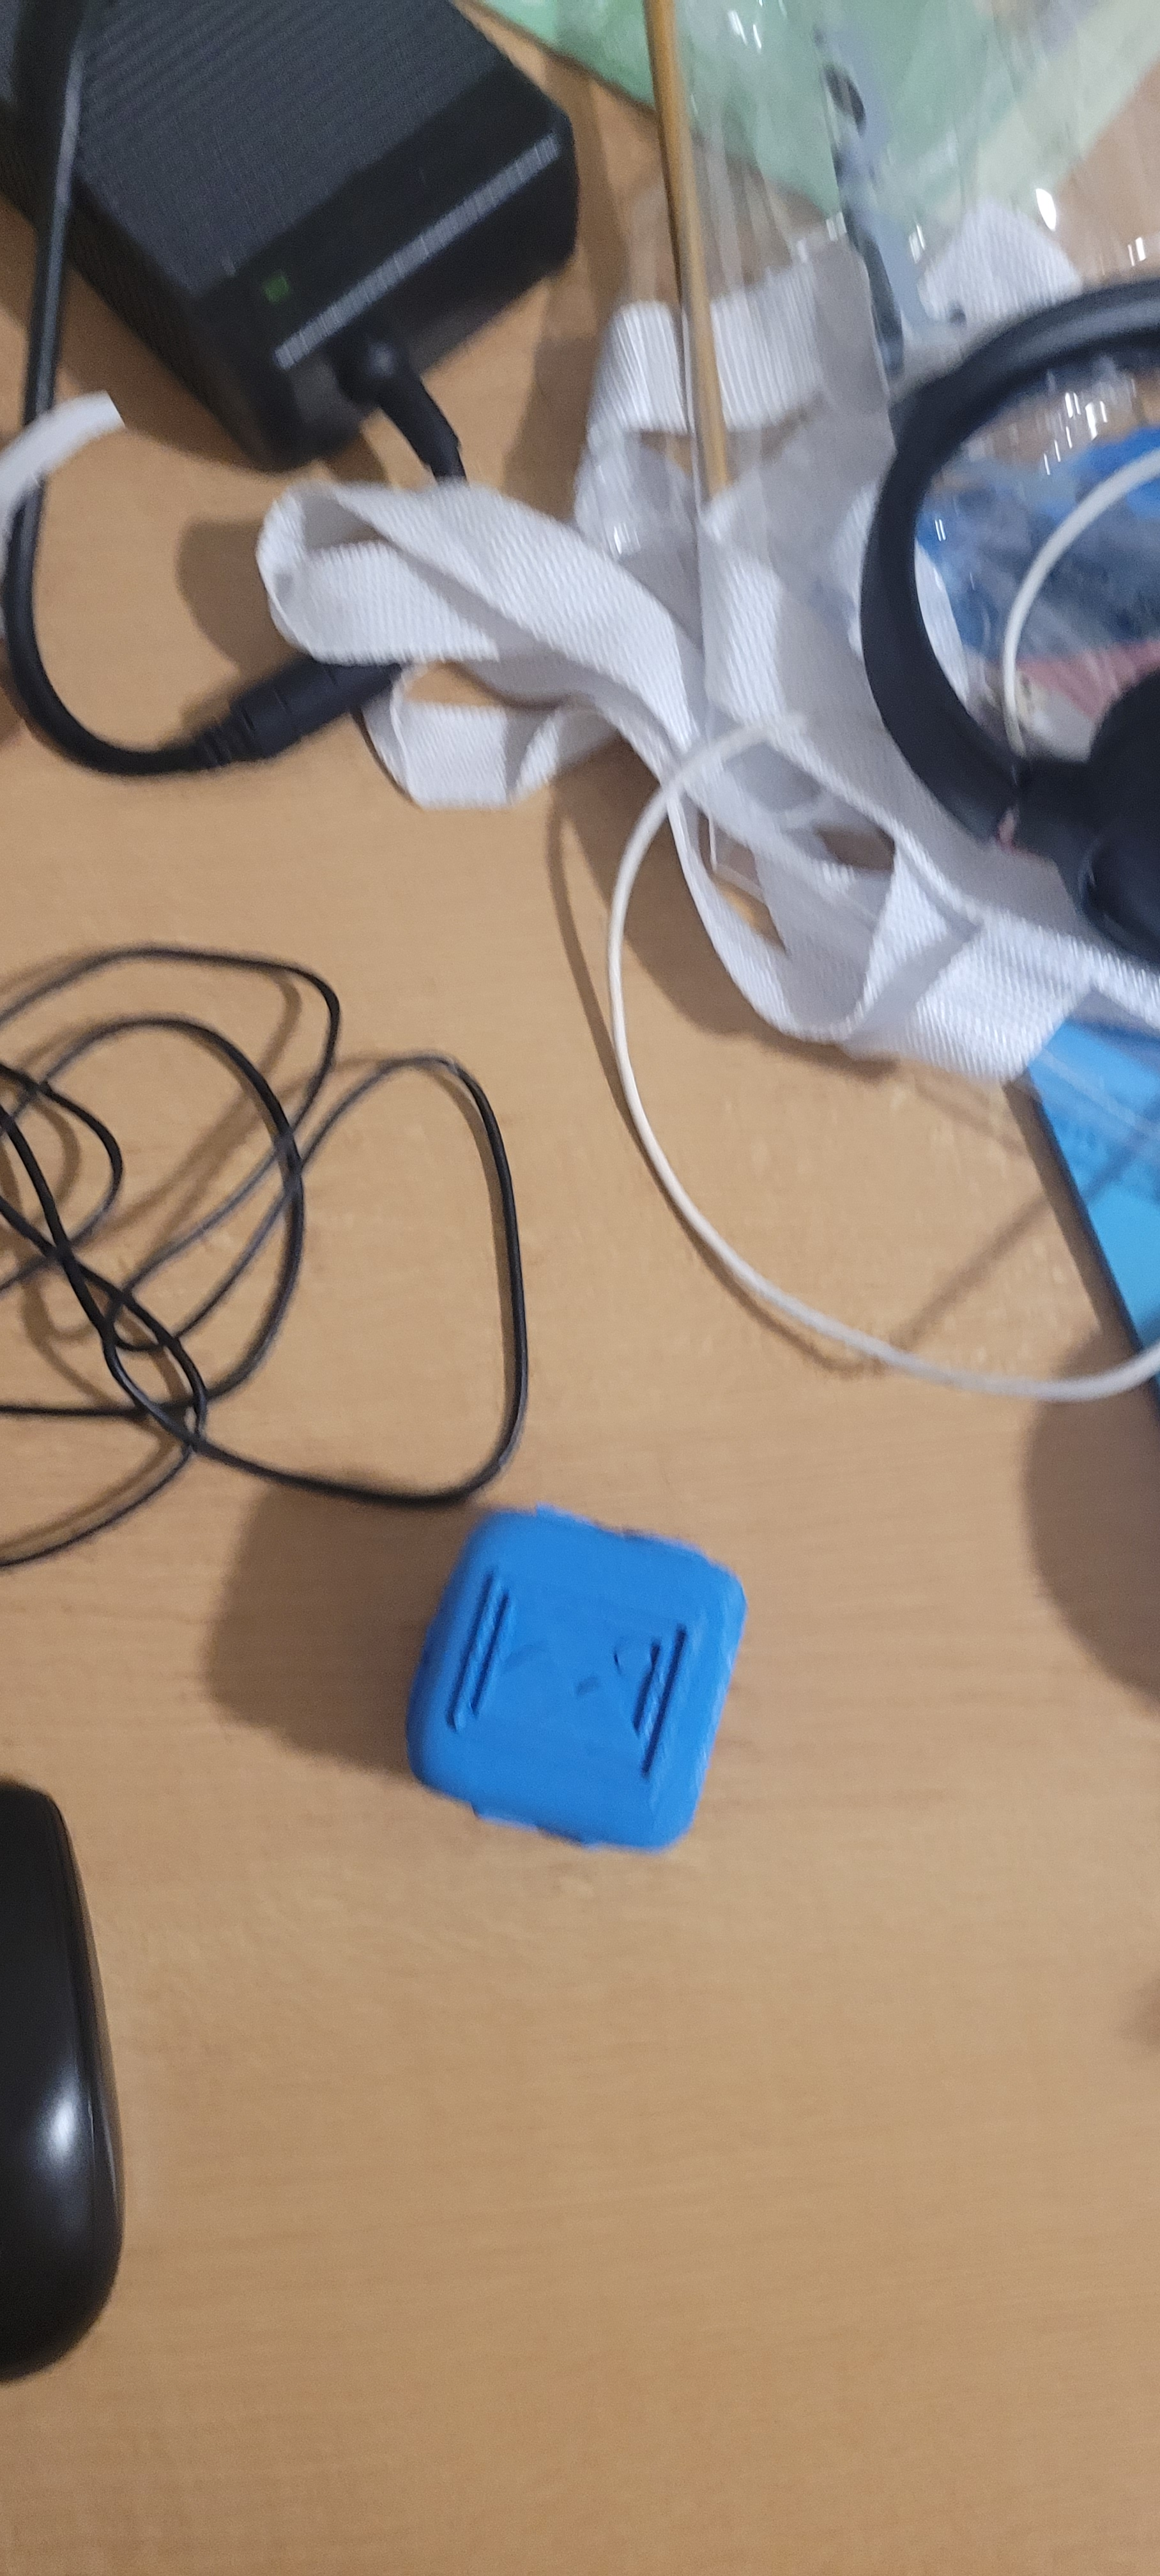Story: (437, 1513, 718, 1807)
